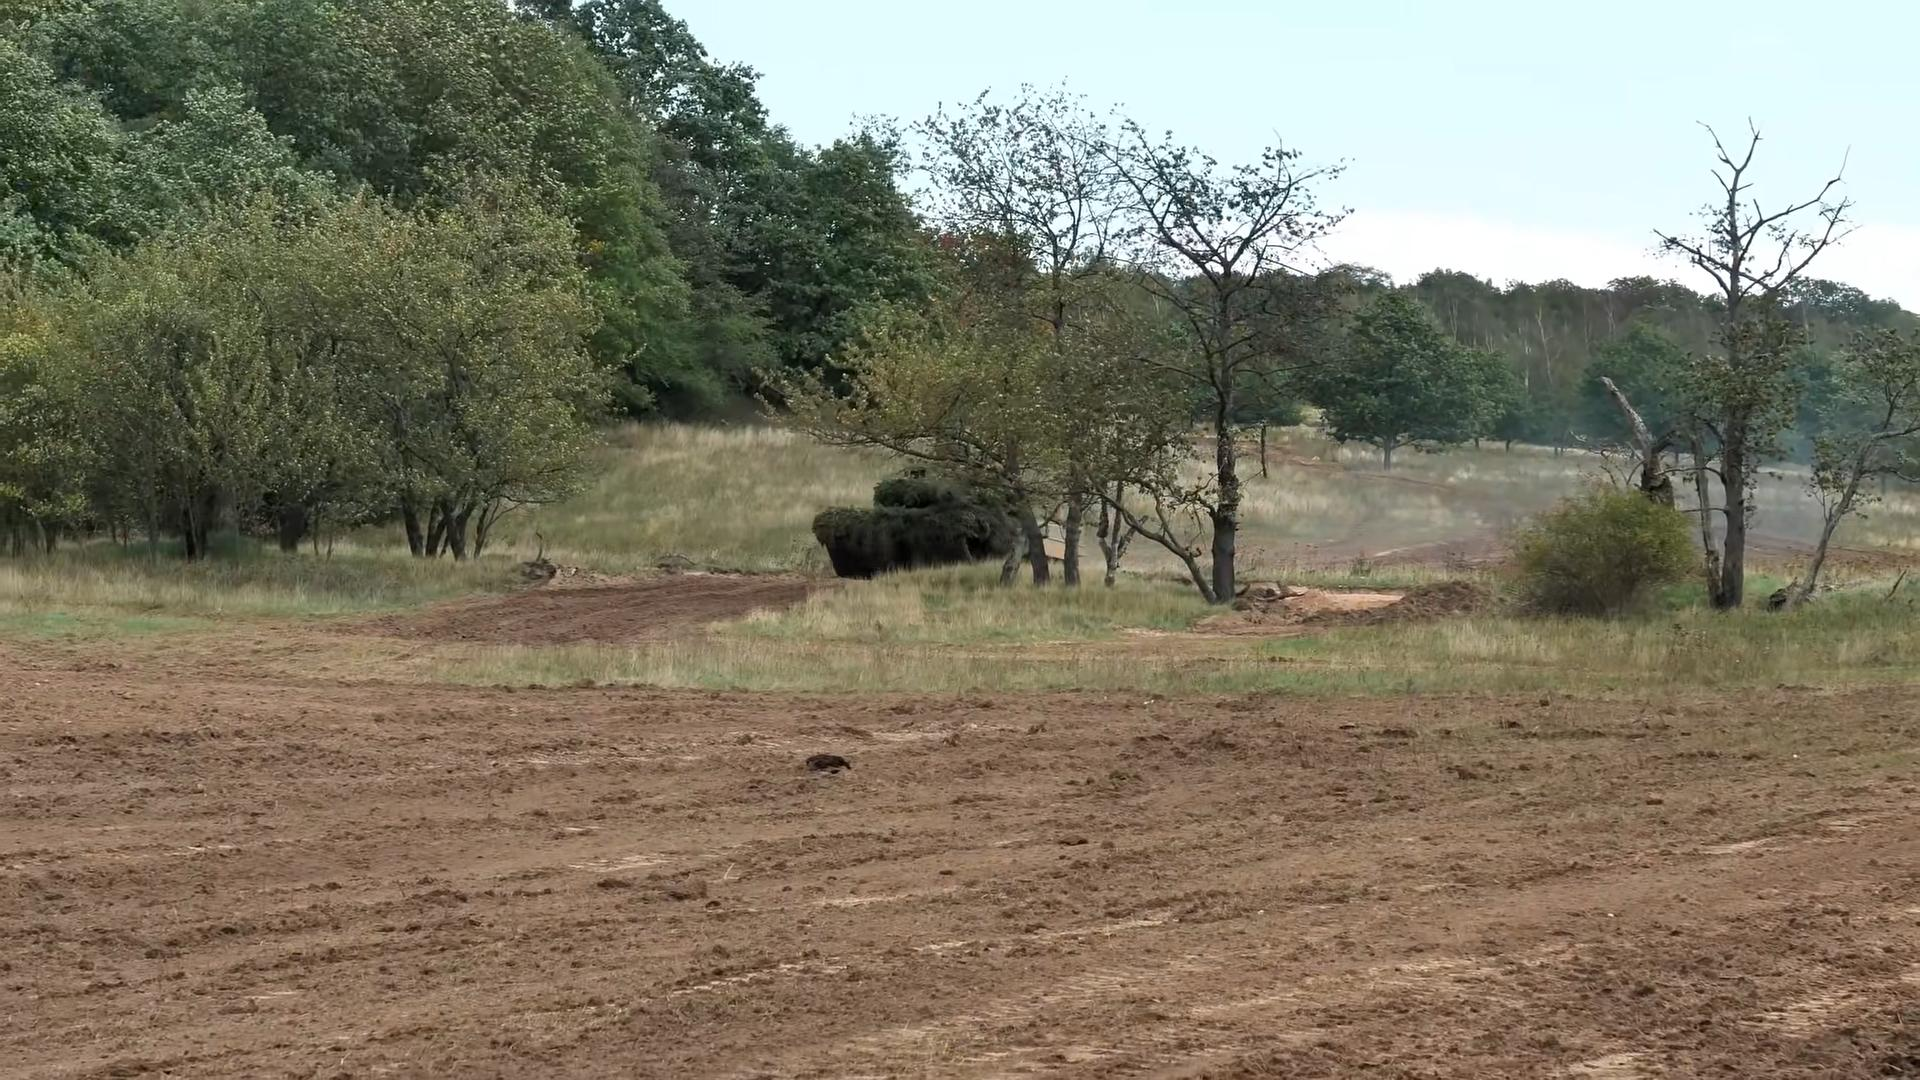tank: (812, 467, 1019, 579)
